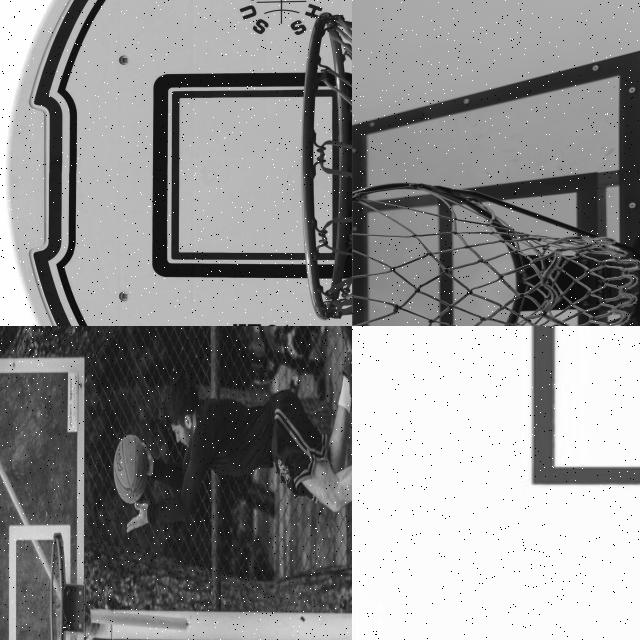backboard: (6, 0, 352, 326), (352, 326, 640, 640), (352, 55, 640, 326), (0, 360, 82, 640)
